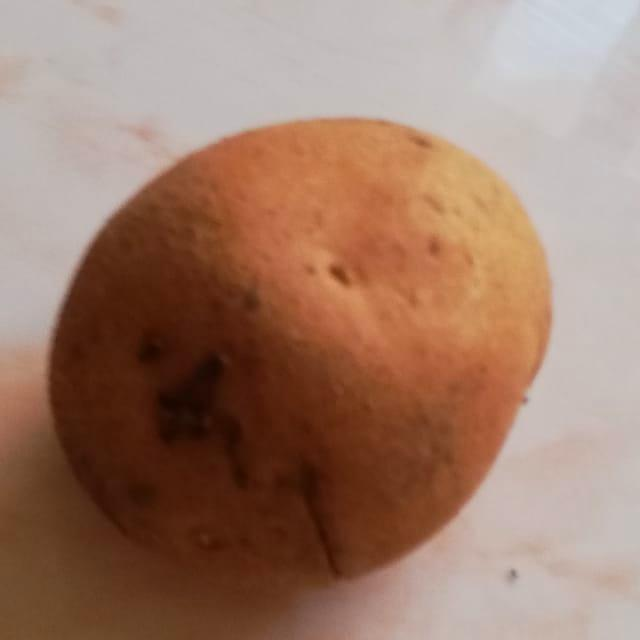potato: (45, 103, 562, 599)
